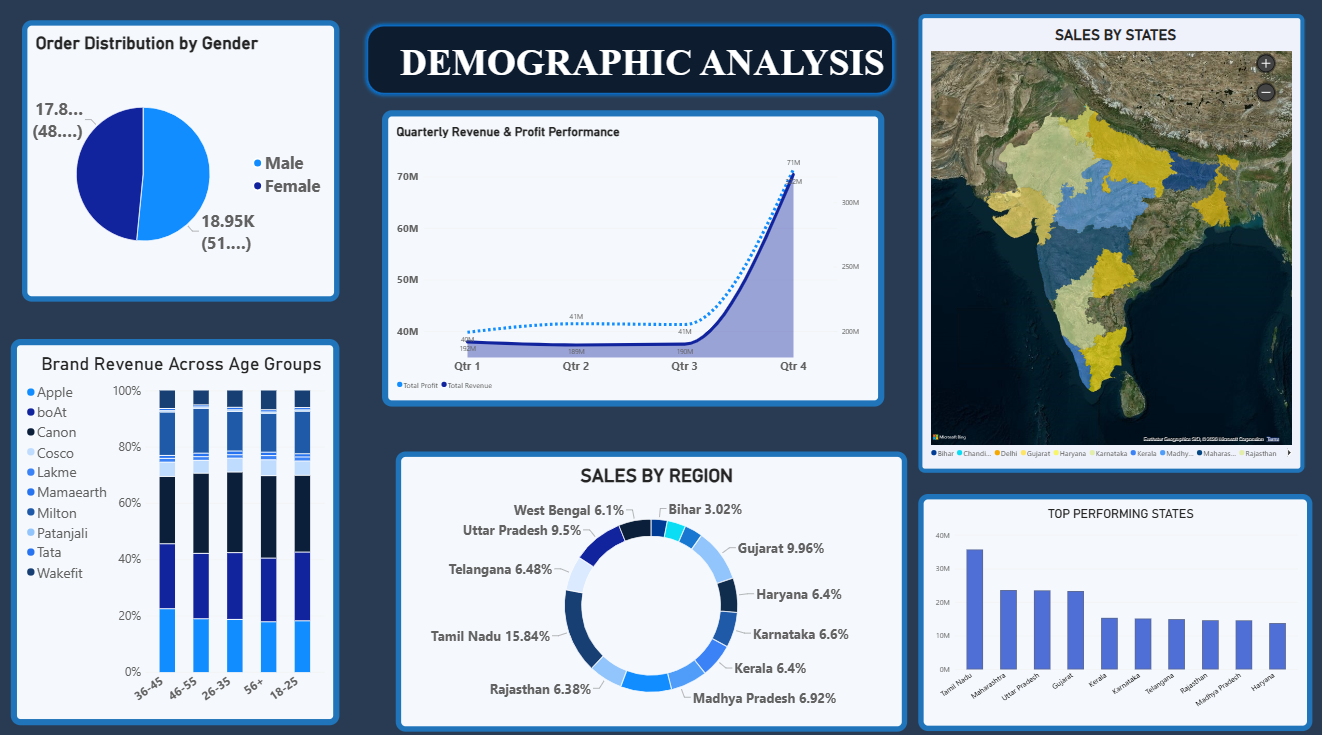

Layout of this report page (visuals, bound fields, positions):
{"tool":"powerbi","page":{"name":"Page 2","canvas":[2560,1440],"ordinal":1},"visuals":[{"type":"lineChart","title":"Quarterly Revenue & Profit Performance","fields":{"Category":["ORDERS F L data.Year Month.Variation.Date Hierarchy.Quarter","ORDERS F L data.Year Month.Variation.Date Hierarchy.Month"],"Y":["CUSTOMERS F L data.Total Profit"],"Y2":["ORDERS F L data.Total Revenue"]},"box":[743.2,224.4,970,571.9],"z":2000},{"type":"clusteredColumnChart","title":"TOP PERFORMING STATES","fields":{"Category":["CUSTOMERS F L data.State"],"Y":["CUSTOMERS F L data.Total Profit"]},"box":[1778.3,965.2,760.6,457.6],"z":3000},{"type":"shape","box":[704.6,50.7,1035.1,152],"z":4000},{"type":"pieChart","title":"Order Distribution by Gender","fields":{"Category":["CUSTOMERS F L data.Gender Hierarchy.Gender"],"Y":["CountNonNull(ORDERS F L data.Order_ID)"]},"box":[48.3,50.7,612.9,542.9],"z":9000},{"type":"hundredPercentStackedColumnChart","title":"Brand Revenue Across Age Groups","fields":{"Category":["CUSTOMERS F L data.Age Group"],"Series":["PRODUCT F L data.Brand"],"Y":["ORDERS F L data.Total Revenue"]},"box":[26.5,666,634.6,745.6],"z":10000},{"type":"filledMap","title":"SALES BY STATES","fields":{"Category":["CUSTOMERS F L data.State"],"Series":["CUSTOMERS F L data.State"]},"box":[1778.3,38.6,745.6,885.5],"z":11000},{"type":"donutChart","title":"SALES BY REGION","fields":{"Series":["CUSTOMERS F L data.State"],"Y":["CountNonNull(CUSTOMERS F L data.State)"]},"box":[769.7,883.1,986.9,540.5],"z":12000},{"type":"textbox","box":[680.4,79.6,1059.3,98.9],"z":13000}]}

Visuals, with their boxes in screenshot pixels (x1, y1, x2, y2), scaled from the page's 2560x1440 canvas onto the 1322x735 screenshot:
"Quarterly Revenue & Profit Performance" lineChart: (384,115,885,406)
"TOP PERFORMING STATES" clusteredColumnChart: (918,493,1311,726)
shape: (364,26,898,103)
"Order Distribution by Gender" pieChart: (25,26,341,303)
"Brand Revenue Across Age Groups" hundredPercentStackedColumnChart: (14,340,341,721)
"SALES BY STATES" filledMap: (918,20,1303,472)
"SALES BY REGION" donutChart: (397,451,907,727)
textbox: (351,41,898,91)
